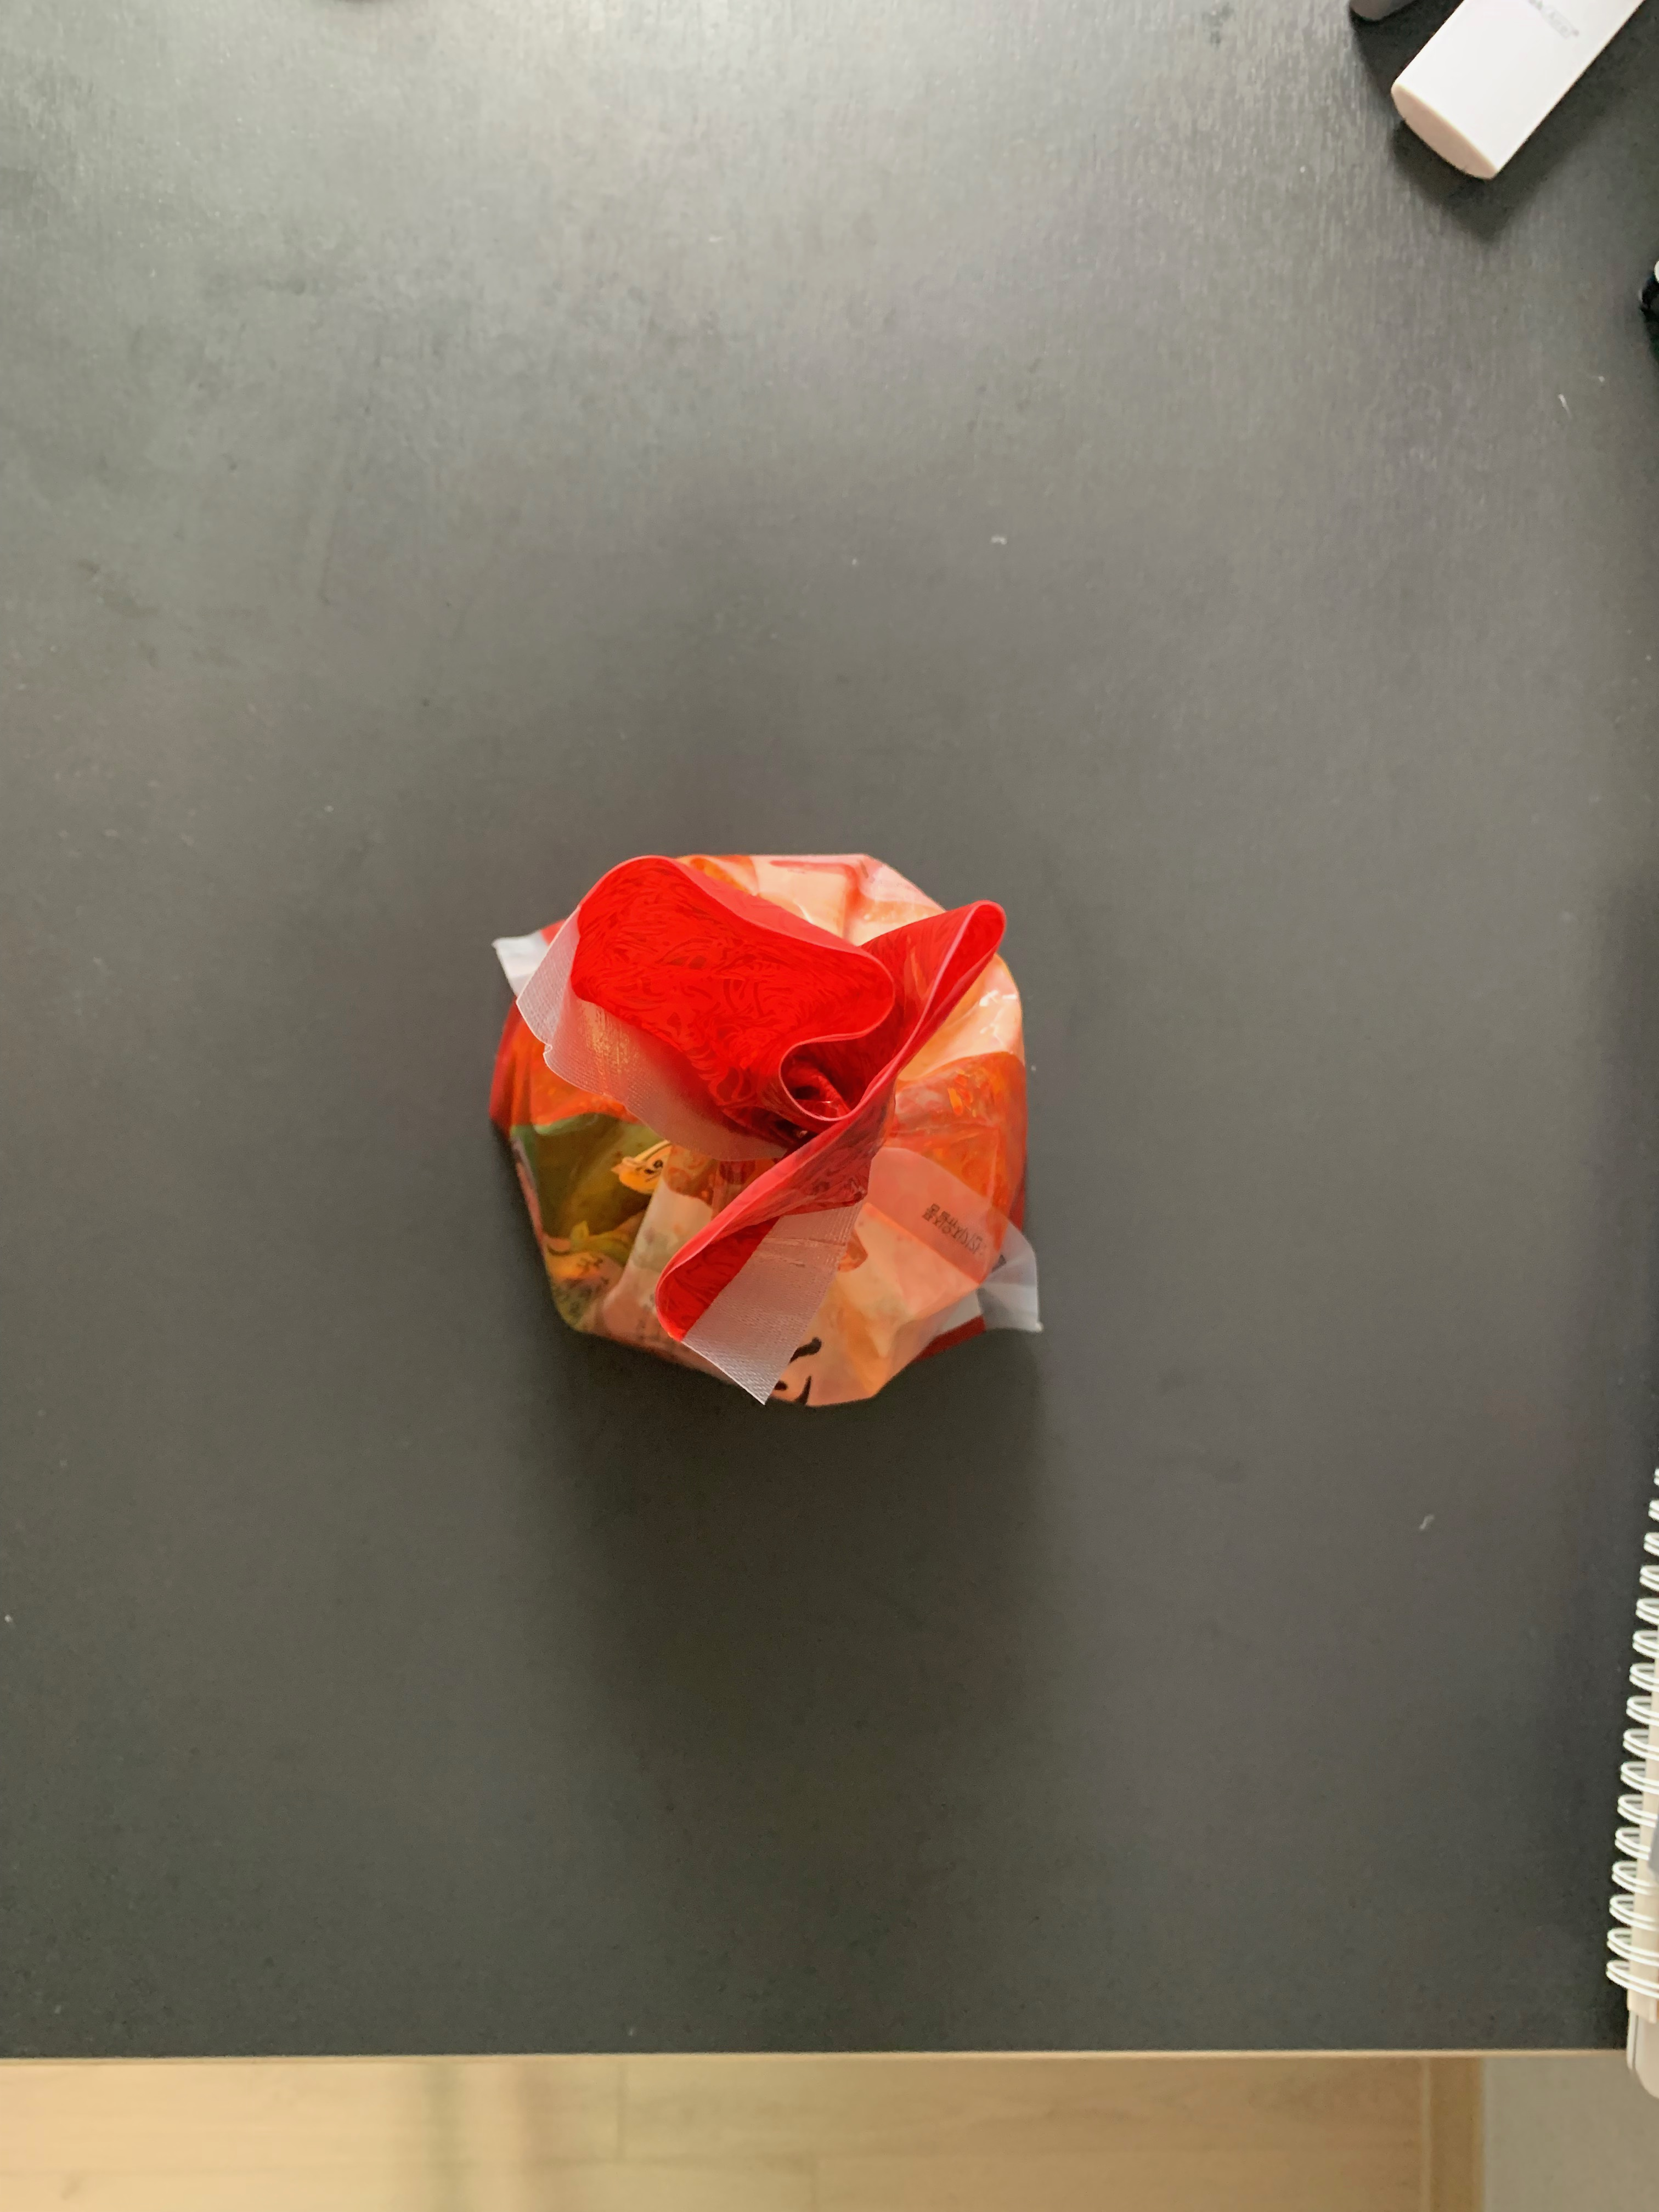kimchi: (500, 852, 1039, 1400)
